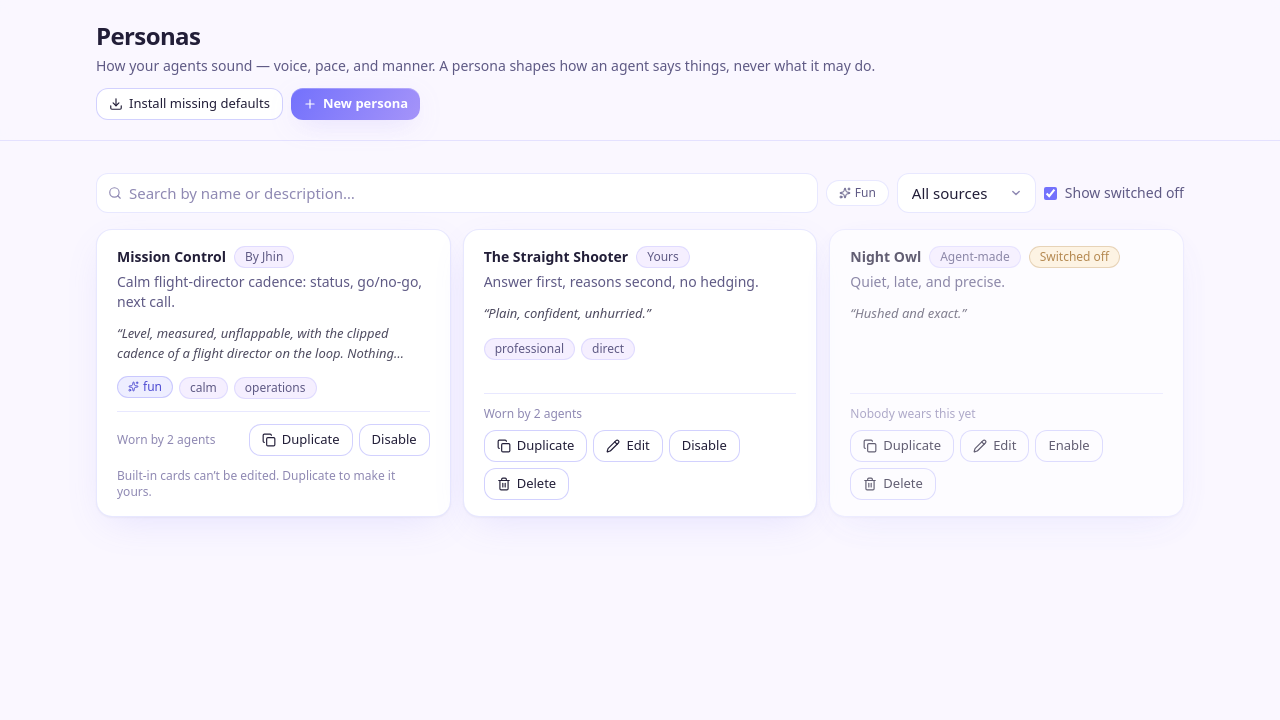
Test: PersonasPage gallery › offers to clear the filters when nothing matches
The image size is (1280, 720).
Type "zzz" into the field named "Search personas" at (457, 193), box [96,173,818,213]
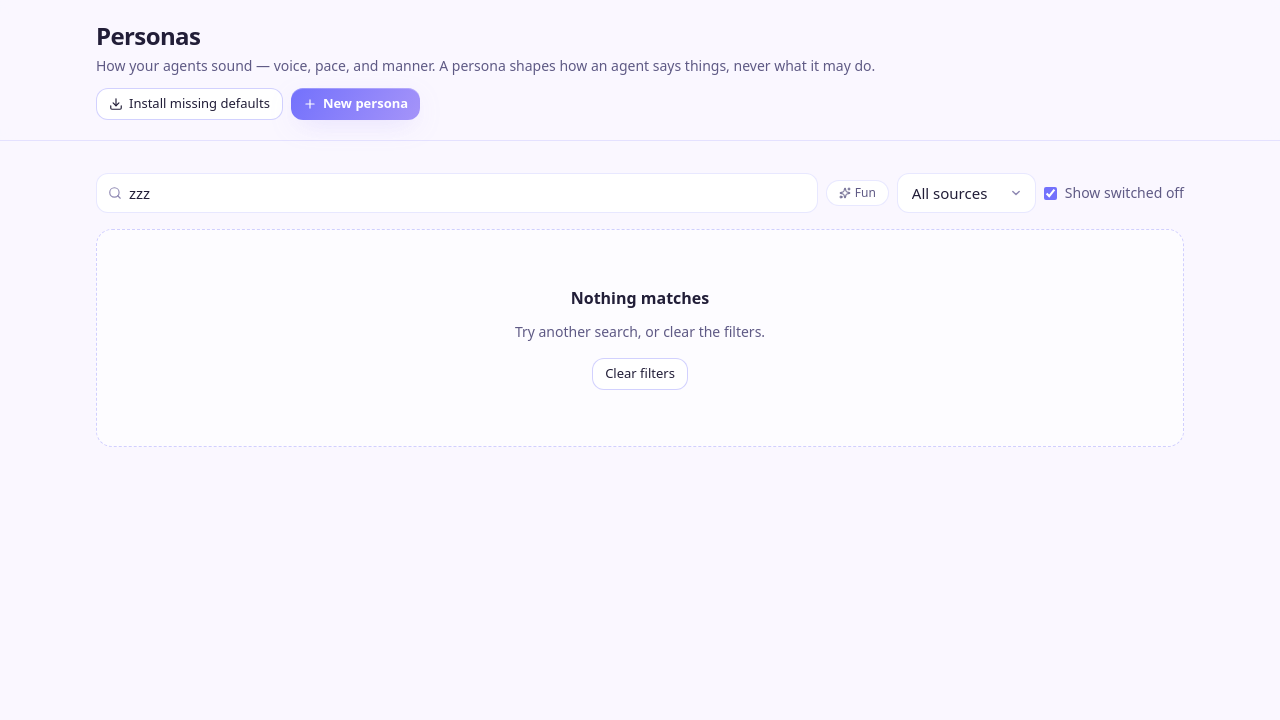
Expected: the text "Nothing matches" is shown, [571,286,709,310]
Click the button "Clear filters" at (640, 374), box [592,358,688,390]
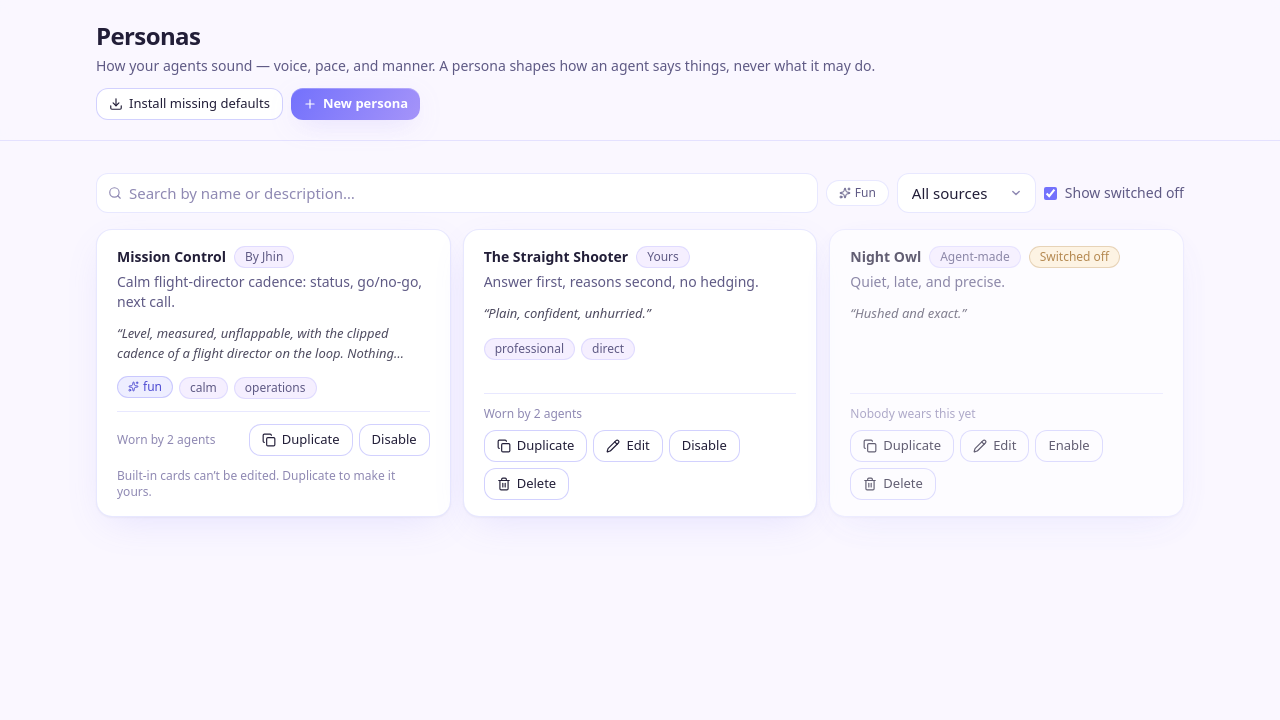
Expected: the list item with test id "persona-mission-control" is shown, [96,229,451,517]
